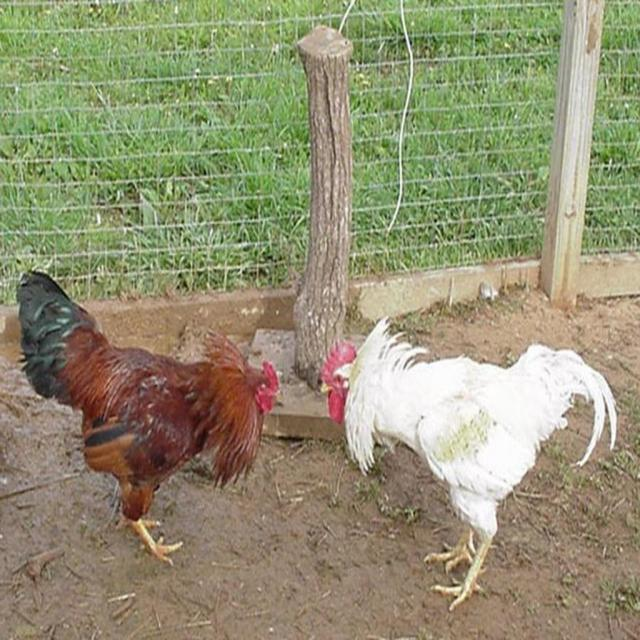Chicken: (318, 304, 621, 615), (20, 267, 283, 559)
